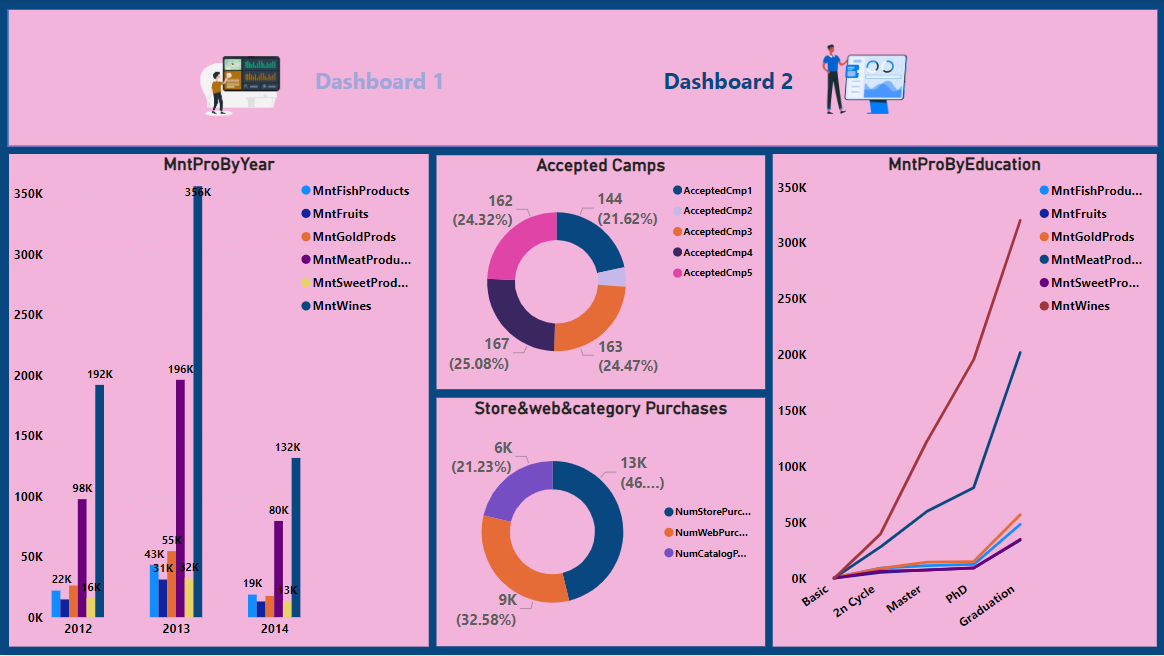

What the dashboard file says about the page in this screenshot:
{"tool":"powerbi","page":{"name":"Page 2","canvas":[1280,720],"ordinal":1},"visuals":[{"type":"donutChart","title":"Store&web&category Purchases","fields":{"Y":["Sum(Sheet1.NumStorePurchases)","Sum(Sheet1.NumWebPurchases)","Sum(Sheet1.NumCatalogPurchases)"]},"box":[480.3,437.7,360.9,273.1],"z":0},{"type":"donutChart","title":"Accepted Camps","fields":{"Y":["Sum(Sheet1.AcceptedCmp1)","Sum(Sheet1.AcceptedCmp2)","Sum(Sheet1.AcceptedCmp3)","Sum(Sheet1.AcceptedCmp4)","Sum(Sheet1.AcceptedCmp5)"]},"box":[480.3,171.5,360.9,256.6],"z":1000},{"type":"clusteredColumnChart","title":"MntProByYear","fields":{"Category":["Sheet1.Dt_Customer.Variation.Date Hierarchy.Year"],"Y":["Sum(Sheet1.MntFishProducts)","Sum(Sheet1.MntFruits)","Sum(Sheet1.MntGoldProds)","Sum(Sheet1.MntMeatProducts)","Sum(Sheet1.MntSweetProducts)","Sum(Sheet1.MntWines)"]},"box":[11,170.2,461.1,540.7],"z":2000},{"type":"lineChart","title":"MntProByEducation","fields":{"Category":["Sheet1.Education"],"Y":["Sum(Sheet1.MntFishProducts)","Sum(Sheet1.MntFruits)","Sum(Sheet1.MntGoldProds)","Sum(Sheet1.MntMeatProducts)","Sum(Sheet1.MntSweetProducts)","Sum(Sheet1.MntWines)"]},"box":[849.4,170.2,421.3,540.7],"z":3000},{"type":"shape","box":[9.5,10.9,1262.6,150.9],"z":4000},{"type":"actionButton","box":[341.7,37,152.3,104.3],"z":5000},{"type":"actionButton","box":[724.5,37,152.3,104.3],"z":6000},{"type":"image","box":[185.2,19.2,156.4,150.9],"z":7000},{"type":"image","box":[876.8,22,144.1,129],"z":8000}]}

Visuals, with their boxes in screenshot pixels (x1, y1, x2, y2), scaled from the page's 1280x720 canvas onto the 1164x656 screenshot:
"Store&web&category Purchases" donutChart: bbox(437, 399, 765, 648)
"Accepted Camps" donutChart: bbox(437, 156, 765, 390)
"MntProByYear" clusteredColumnChart: bbox(10, 155, 429, 648)
"MntProByEducation" lineChart: bbox(772, 155, 1156, 648)
shape: bbox(9, 10, 1157, 147)
actionButton: bbox(311, 34, 449, 129)
actionButton: bbox(659, 34, 797, 129)
image: bbox(168, 17, 311, 155)
image: bbox(797, 20, 928, 138)
